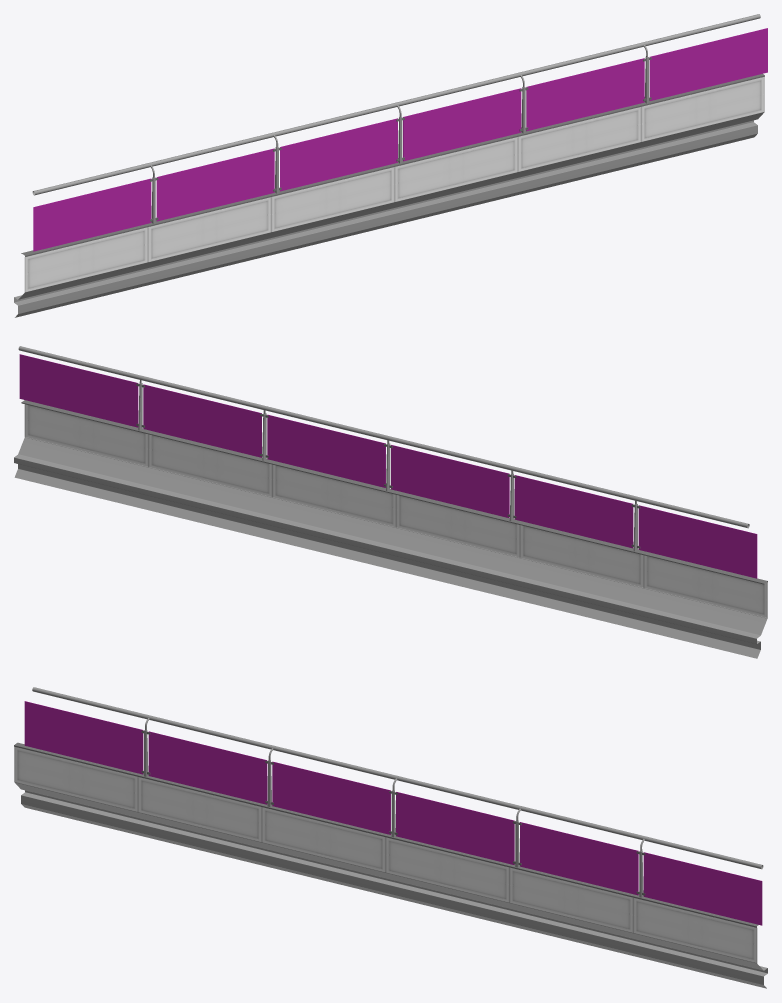
File: SM_BalconiesComplete3.FBX
The picture shows the model from 3 angles, top to bottom: view 1: azimuth 30°, elevation 25°; view 2: azimuth 150°, elevation 25°; view 3: azimuth 330°, elevation 25°; orthographic projection.
Visible parts, largest first — view 1: FlatBalcony065, FlatBalcony066, FlatBalcony063, FlatBalcony067, FlatBalcony064, FlatBalcony002; view 2: FlatBalcony067, FlatBalcony065, FlatBalcony066, FlatBalcony063, FlatBalcony064, FlatBalcony002; view 3: FlatBalcony067, FlatBalcony065, FlatBalcony066, FlatBalcony063, FlatBalcony064, FlatBalcony002.
Part boxes in pixels (x1=…): FlatBalcony065: x1=384, y1=74, x2=521, y2=227; FlatBalcony066: x1=507, y1=44, x2=644, y2=197; FlatBalcony063: x1=137, y1=134, x2=274, y2=287; FlatBalcony067: x1=630, y1=14, x2=767, y2=167; FlatBalcony064: x1=260, y1=104, x2=397, y2=257; FlatBalcony002: x1=14, y1=164, x2=151, y2=317; FlatBalcony067: x1=14, y1=346, x2=148, y2=507; FlatBalcony065: x1=261, y1=406, x2=396, y2=567; FlatBalcony066: x1=137, y1=376, x2=272, y2=537; FlatBalcony063: x1=509, y1=467, x2=643, y2=628; FlatBalcony064: x1=385, y1=436, x2=519, y2=598; FlatBalcony002: x1=633, y1=497, x2=767, y2=658; FlatBalcony067: x1=633, y1=835, x2=767, y2=988; FlatBalcony065: x1=385, y1=774, x2=520, y2=928; FlatBalcony066: x1=509, y1=804, x2=644, y2=958; FlatBalcony063: x1=137, y1=714, x2=272, y2=867; FlatBalcony064: x1=261, y1=744, x2=396, y2=897; FlatBalcony002: x1=14, y1=687, x2=148, y2=837.
Size of the model in its own units: 18.1 by 2.95 by 0.4674.
